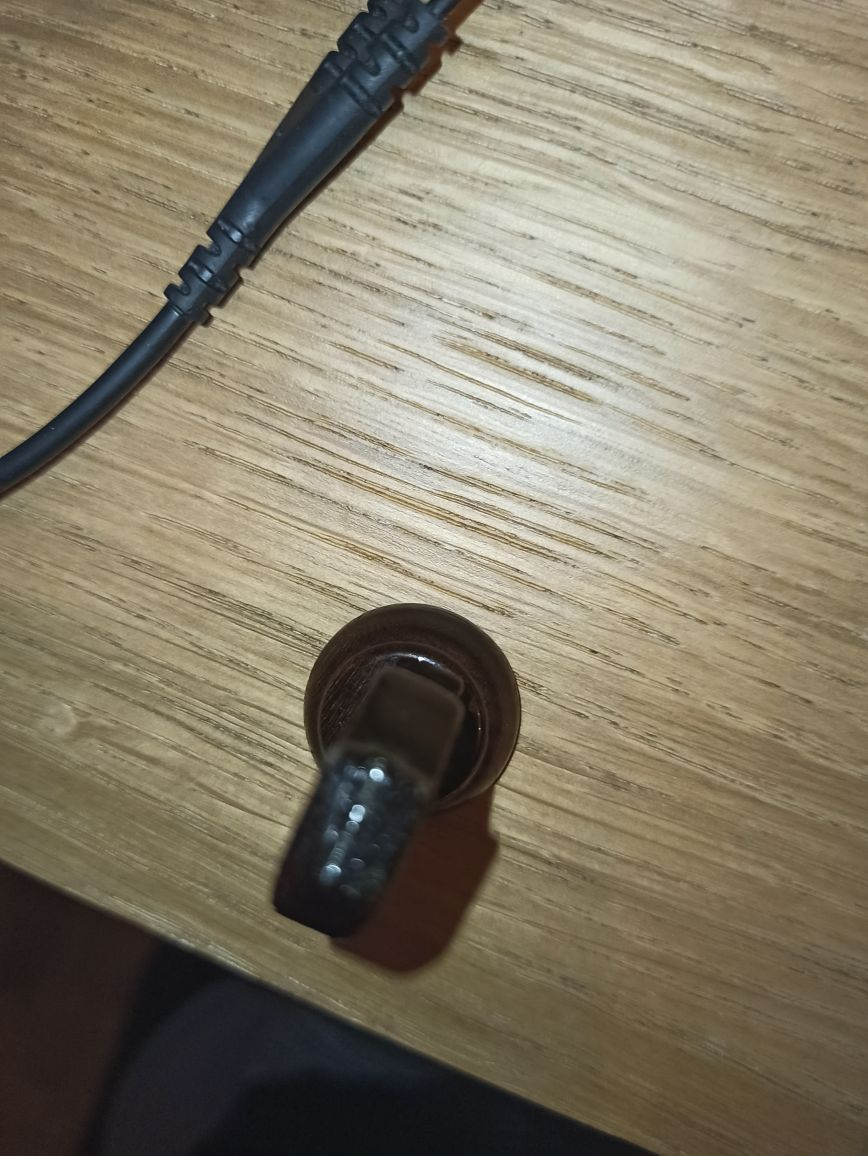bknight: (270, 604, 519, 955)
